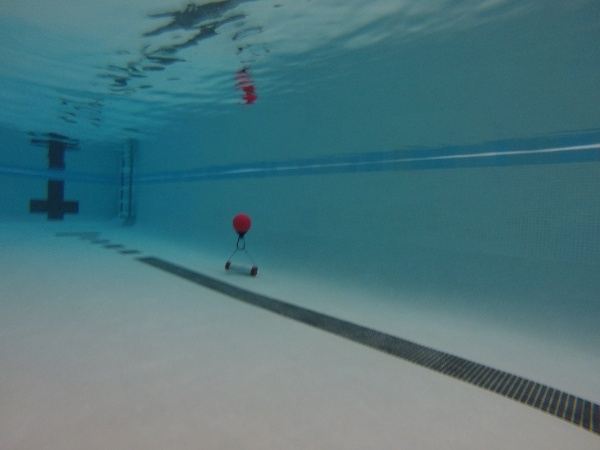buoy_red: (230, 212, 253, 242)
